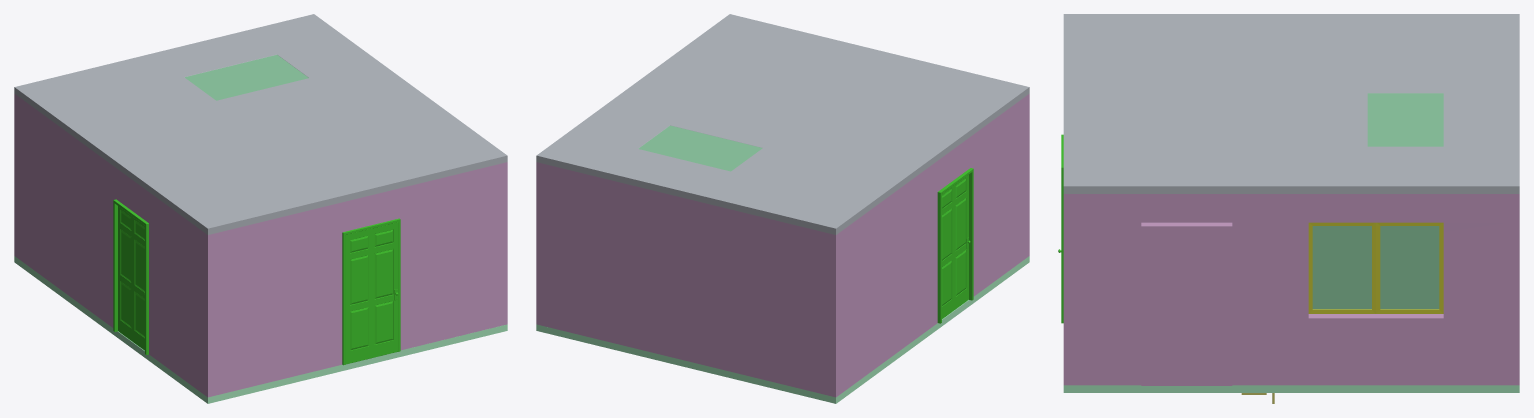
Rendered from FloorPlan1_physics.fbx.
3 views of the same model, side by side, from view 1: azimuth 30°, elevation 25°; view 2: azimuth 150°, elevation 25°; view 3: azimuth 270°, elevation 25° (orthographic). The views are drawn at different scales.
Parts seen in each view (by area): view 1: StandardWallSize, Ceiling, StandardDoor1, Floor, StandardDoor1 (2), WindowGlass (2), StandardDoorFrame1 (2), StandardDoorFrame1; view 2: StandardWallSize, Ceiling, Floor, StandardDoor1 (2), WindowGlass (2), StandardDoorFrame1 (2); view 3: Ceiling, StandardWallSize, WindowGlass, WindowGlass (2), Floor, StandardWindow1 (3) (2), StandardWindow1 (3), StandardDoorFrame1.
Part boxes in pixels (box(x1,y1,x2,y2)): StandardWallSize: box(14, 94, 507, 397); Ceiling: box(14, 14, 507, 234); StandardDoor1: box(346, 222, 397, 364); Floor: box(14, 256, 507, 403); StandardDoor1 (2): box(118, 206, 144, 350); WindowGlass (2): box(185, 55, 308, 100); StandardDoorFrame1 (2): box(113, 199, 148, 354); StandardDoorFrame1: box(342, 218, 400, 365); StandardWallSize: box(536, 94, 1029, 397); Ceiling: box(536, 14, 1029, 234); Floor: box(536, 256, 1029, 403); StandardDoor1 (2): box(942, 174, 968, 318); WindowGlass (2): box(638, 125, 762, 171); StandardDoorFrame1 (2): box(937, 168, 973, 323); Ceiling: box(1063, 14, 1519, 193); StandardWallSize: box(1063, 194, 1519, 385); WindowGlass: box(1312, 226, 1439, 309); WindowGlass (2): box(1367, 93, 1443, 146); Floor: box(1063, 385, 1519, 392); StandardWindow1 (3) (2): box(1376, 222, 1443, 313); StandardWindow1 (3): box(1308, 222, 1375, 313); StandardDoorFrame1: box(1061, 134, 1063, 323).
Size of the model in its own units: 498 by 298 by 546.
